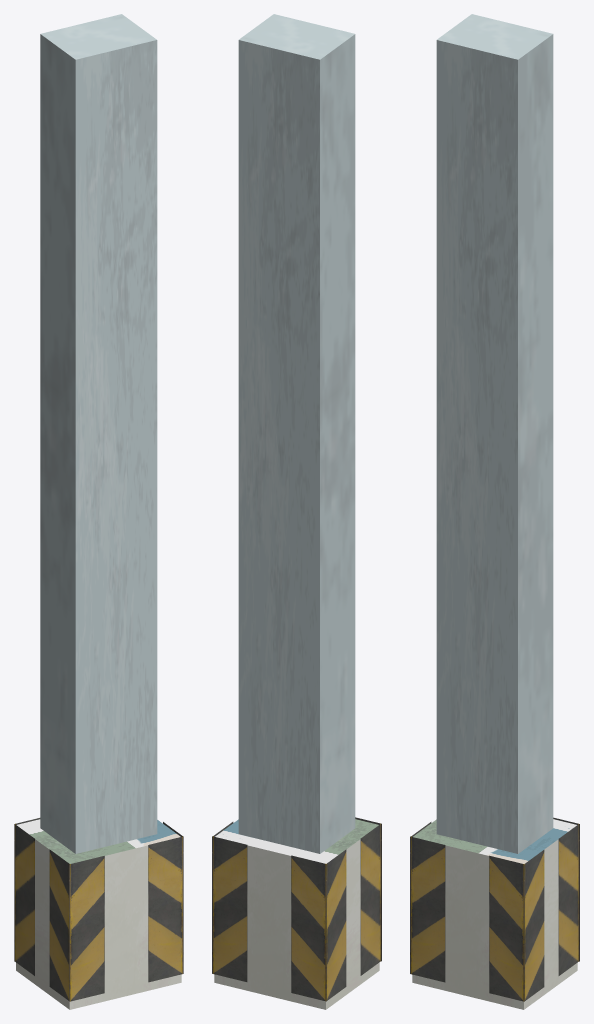
Rendered from column.fbx.
The picture shows the model from 3 angles, left to right: view 1: azimuth 30°, elevation 25°; view 2: azimuth 150°, elevation 25°; view 3: azimuth 330°, elevation 25°; orthographic projection.
Visible parts, largest first — view 1: strip.008; view 2: strip.008; view 3: strip.008.
Boxes of the visible parts, box(x1,y1,x2,y2) form: strip.008: box(14, 14, 183, 1009); strip.008: box(212, 14, 381, 1009); strip.008: box(410, 14, 579, 1009).
Bounding box in the file's own units: 99.09 × 776 × 82.92.
Materials: 2 (2 with a texture image).
